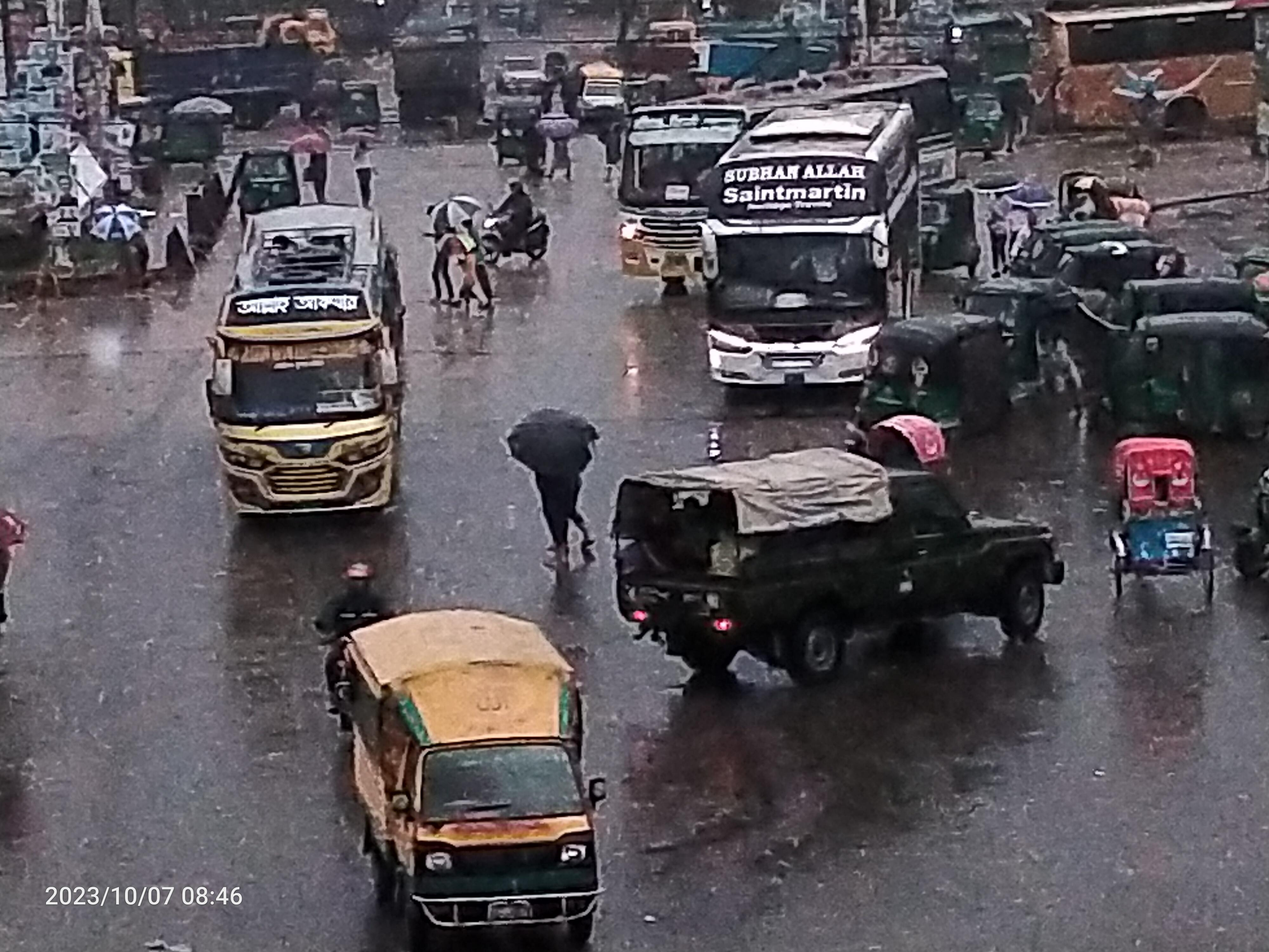Bike: (443, 169, 573, 272)
Bus: (606, 54, 990, 288), (689, 77, 944, 424), (190, 193, 432, 527), (1018, 0, 1269, 155)
Car: (316, 589, 631, 952), (1088, 424, 1254, 633)
